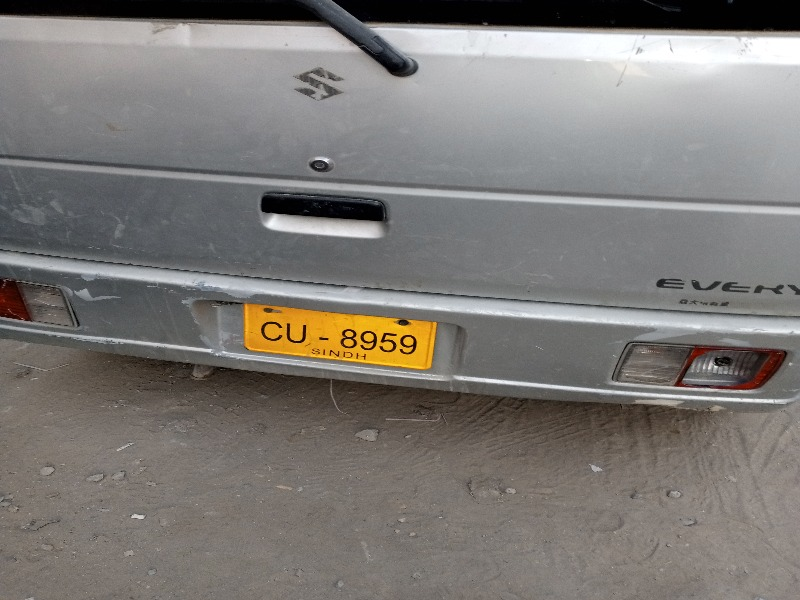License Plate: (239, 300, 442, 380)
